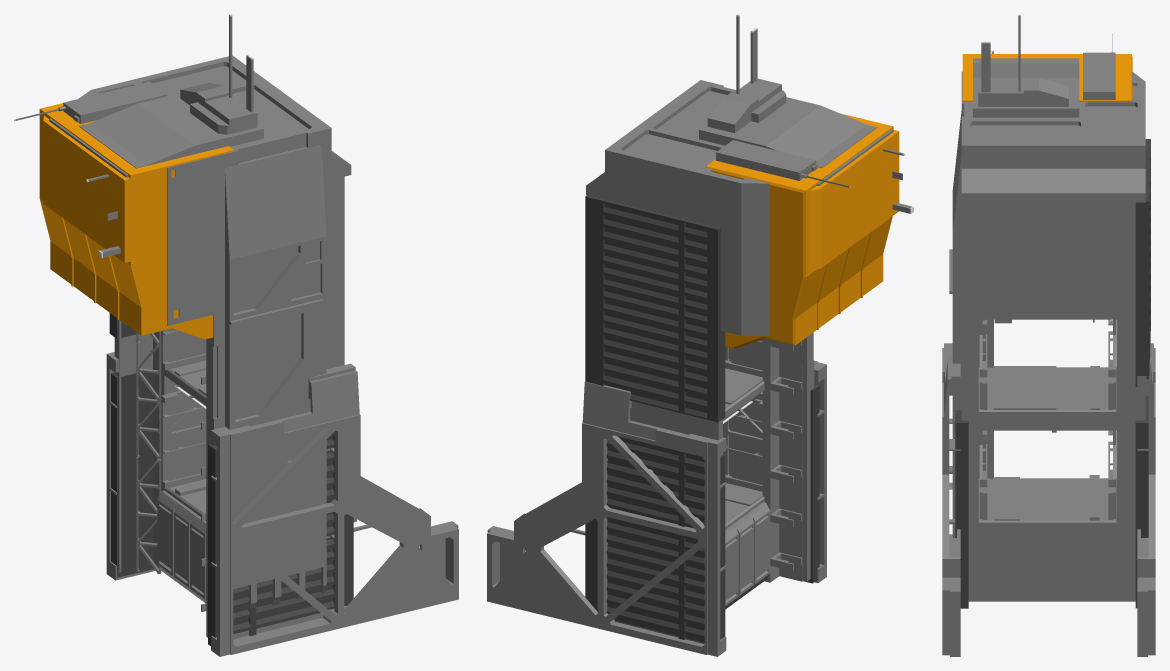
The model's file is Building_D.fbx.
3 renders of one model, left to right at view 1: azimuth 30°, elevation 25°; view 2: azimuth 150°, elevation 25°; view 3: azimuth 270°, elevation 25°, orthographic. The views are drawn at different scales.
Visible parts, largest first — view 1: Building_D_Base, Building_D_Frame_4, Glass_Orange, Building_D_Pannel, Building_D_Pannel_2, Building_D_Frame_1, Building_D_Frame, Building_D_Frame_6, Building_D_Frame_7, Building_D_Frame_2; view 2: Building_D_Base, Building_D_Pannel_1, Building_D_Frame, Glass_Orange, Building_D_Pannel_2, Building_D_Frame_9, Building_D_Pannel, Building_D_Frame_4, Building_D_Frame_3; view 3: Building_D_Base, Building_D_Frame_4, Building_D_Frame, Building_D_Pannel_1, Building_D_Pannel, Glass_Orange, Building_D_Pannel_2, Building_D_Frame_9, Building_D_Frame_8, Building_D_Frame_3, Building_D_Frame_2, Building_D_Frame_1.
Part boxes in pixels (left/top/right/bottom): Building_D_Base: left=15, top=16, right=351, bottom=637; Building_D_Frame_4: left=211, top=363, right=458, bottom=656; Glass_Orange: left=39, top=103, right=233, bottom=339; Building_D_Pannel: left=208, top=432, right=353, bottom=645; Building_D_Pannel_2: left=111, top=369, right=153, bottom=577; Building_D_Frame_1: left=161, top=391, right=206, bottom=488; Building_D_Frame: left=106, top=352, right=356, bottom=580; Building_D_Frame_6: left=136, top=343, right=161, bottom=459; Building_D_Frame_7: left=136, top=457, right=161, bottom=573; Building_D_Frame_2: left=161, top=329, right=206, bottom=370; Building_D_Base: left=586, top=16, right=912, bottom=609; Building_D_Pannel_1: left=585, top=195, right=725, bottom=422; Building_D_Frame: left=487, top=381, right=726, bottom=656; Glass_Orange: left=706, top=113, right=899, bottom=348; Building_D_Pannel_2: left=585, top=436, right=725, bottom=643; Building_D_Frame_9: left=762, top=338, right=802, bottom=582; Building_D_Pannel: left=803, top=384, right=819, bottom=583; Building_D_Frame_4: left=814, top=360, right=826, bottom=582; Building_D_Frame_3: left=723, top=399, right=762, bottom=491; Building_D_Base: left=949, top=16, right=1145, bottom=601; Building_D_Frame_4: left=942, top=343, right=960, bottom=656; Building_D_Frame: left=1137, top=343, right=1155, bottom=656; Building_D_Pannel_1: left=1135, top=139, right=1150, bottom=386; Building_D_Pannel: left=955, top=410, right=968, bottom=608; Glass_Orange: left=962, top=54, right=1132, bottom=101; Building_D_Pannel_2: left=1135, top=395, right=1148, bottom=608; Building_D_Frame_9: left=978, top=319, right=993, bottom=478; Building_D_Frame_8: left=979, top=319, right=987, bottom=409; Building_D_Frame_3: left=979, top=430, right=987, bottom=519; Building_D_Frame_2: left=1108, top=319, right=1115, bottom=409; Building_D_Frame_1: left=1108, top=430, right=1115, bottom=519.
Bounding box in the file's own units: 14425 × 23190 × 8059.
